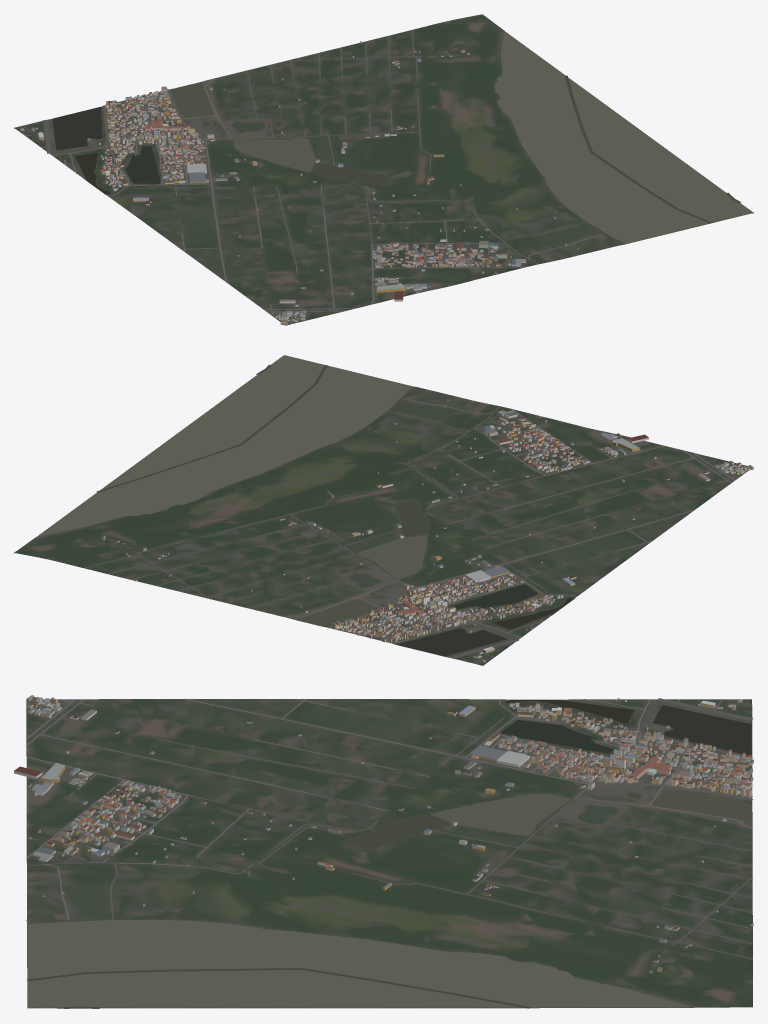
3 renders of one model, top to bottom at view 1: azimuth 30°, elevation 25°; view 2: azimuth 150°, elevation 25°; view 3: azimuth 270°, elevation 25°, orthographic. The views are drawn at different scales.
Parts seen in each view (by area): view 1: ground, water, buildings, roads; view 2: ground, water, buildings, roads; view 3: ground, water, buildings, roads.
Part boxes in pixels (x1,y1,x2,y2): ground: (14,14,753,325); water: (52,31,752,243); buildings: (20,41,578,325); roads: (25,29,622,324); ground: (14,357,750,665); water: (37,355,572,656); buildings: (100,399,753,662); roads: (84,386,747,659); ground: (26,699,752,1008); water: (27,699,751,1008); buildings: (14,695,753,973); roads: (26,698,752,959).
Size of the model in its own units: 1413 by 27.97 by 1429.
